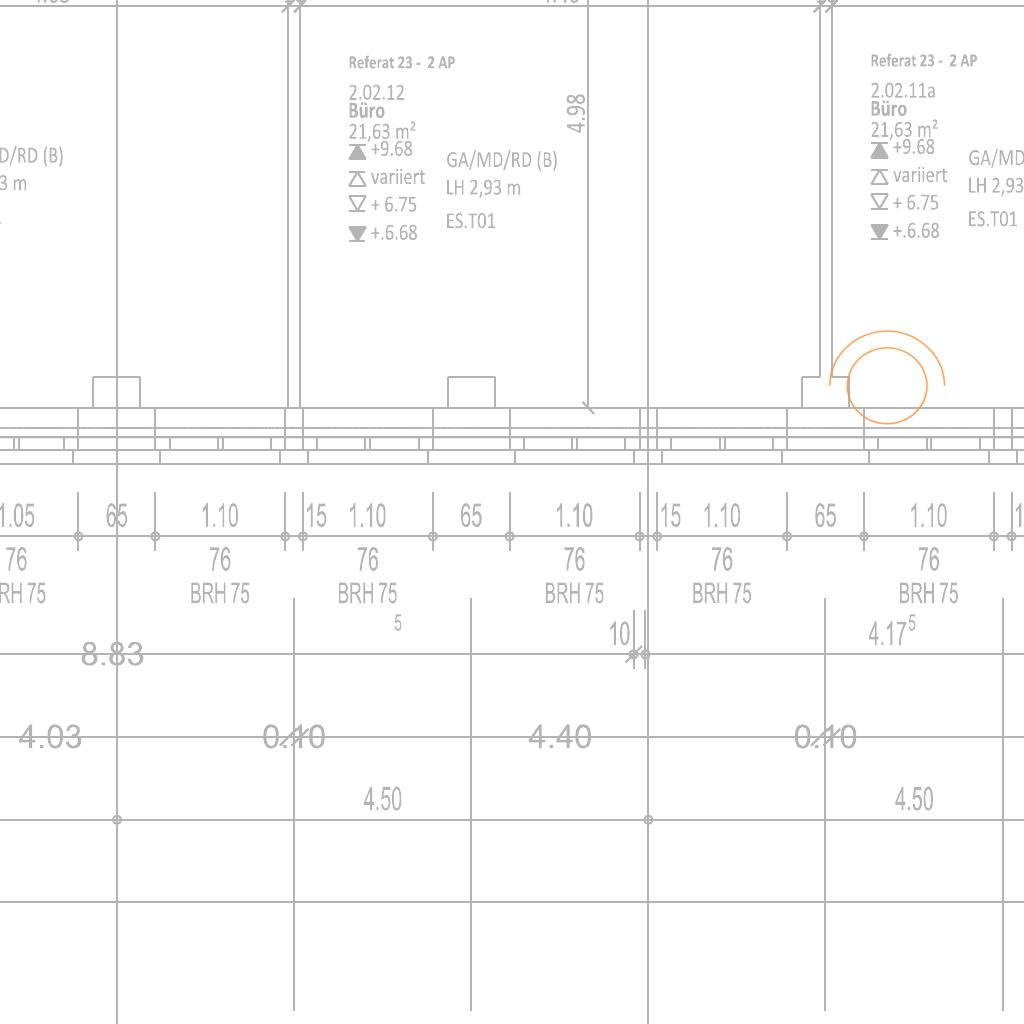Scheinwerfer_fuer_Alarmbeleuchtung: (818, 325, 950, 437)
